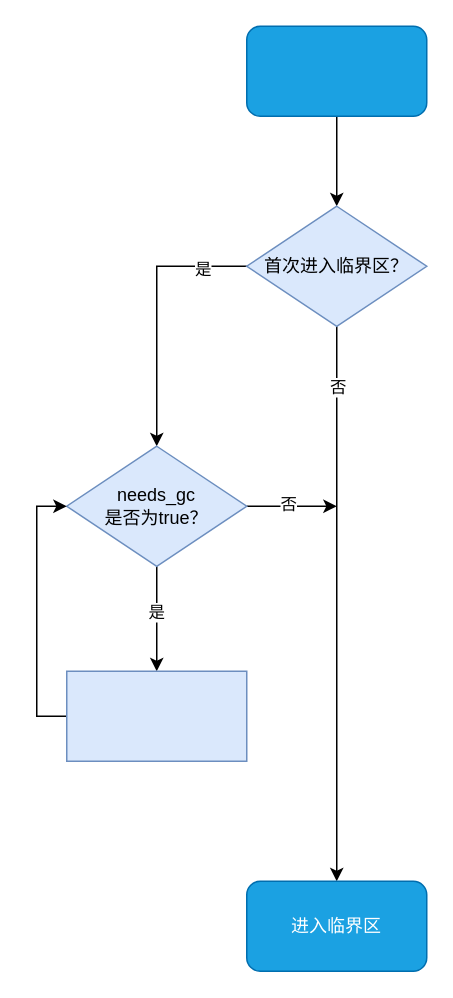
The diagram is 453 pixels wide and 998 high, and some of its shapes have lost their labels. Each missing label, with the centre of its shape:
线程准备进入临界区: (x=336, y=70)
阻塞等待垃圾回收执行: (x=156, y=715)
